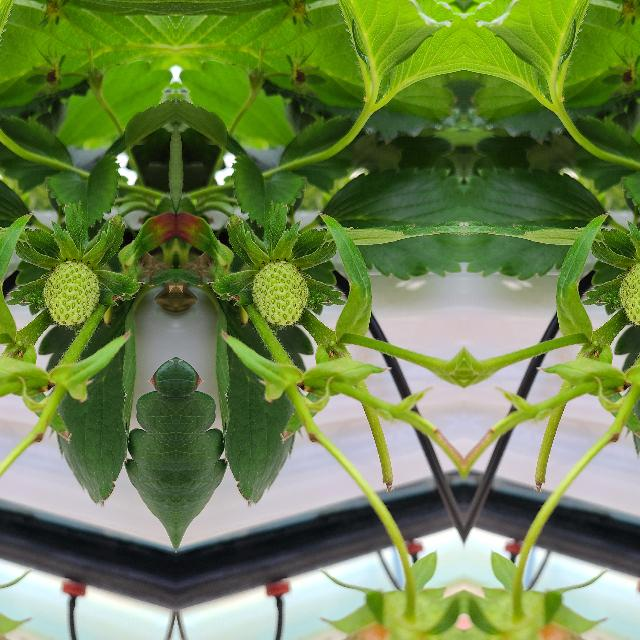Health_25: (251, 261, 307, 325), (43, 261, 99, 325), (619, 261, 640, 325)
